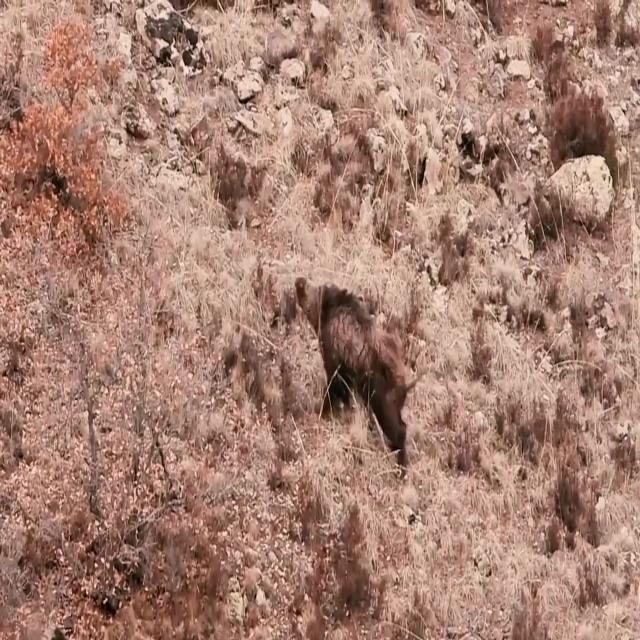pig: (282, 249, 426, 480)
